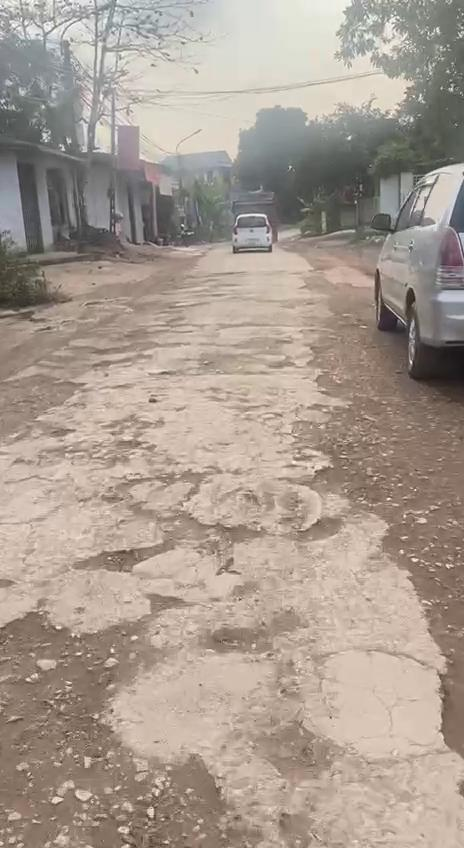pothole: (0, 607, 264, 848), (114, 466, 264, 566), (278, 410, 382, 513), (78, 526, 179, 572)
